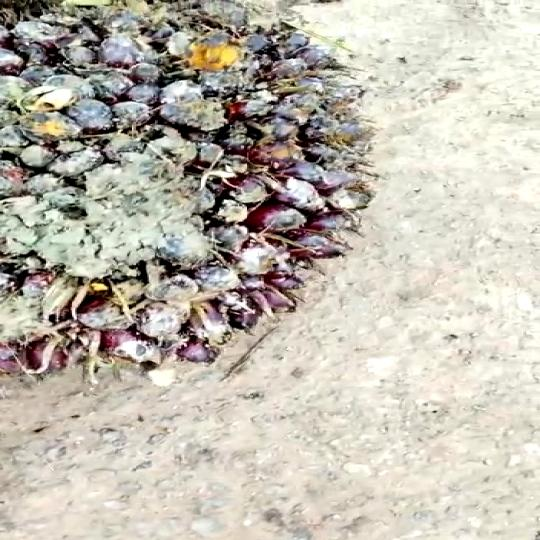kurang masak: (0, 0, 391, 390)
